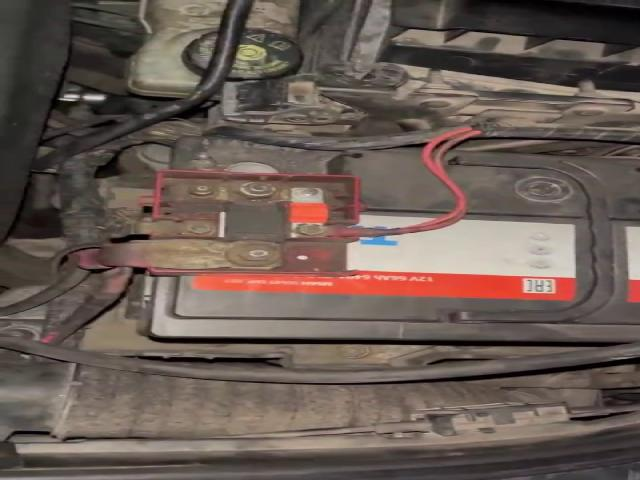accumulator: (66, 135, 634, 347)
